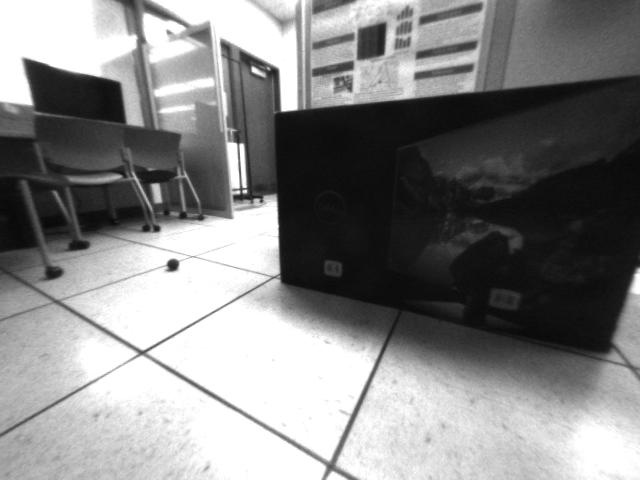dogtoy: (164, 254, 184, 276)
